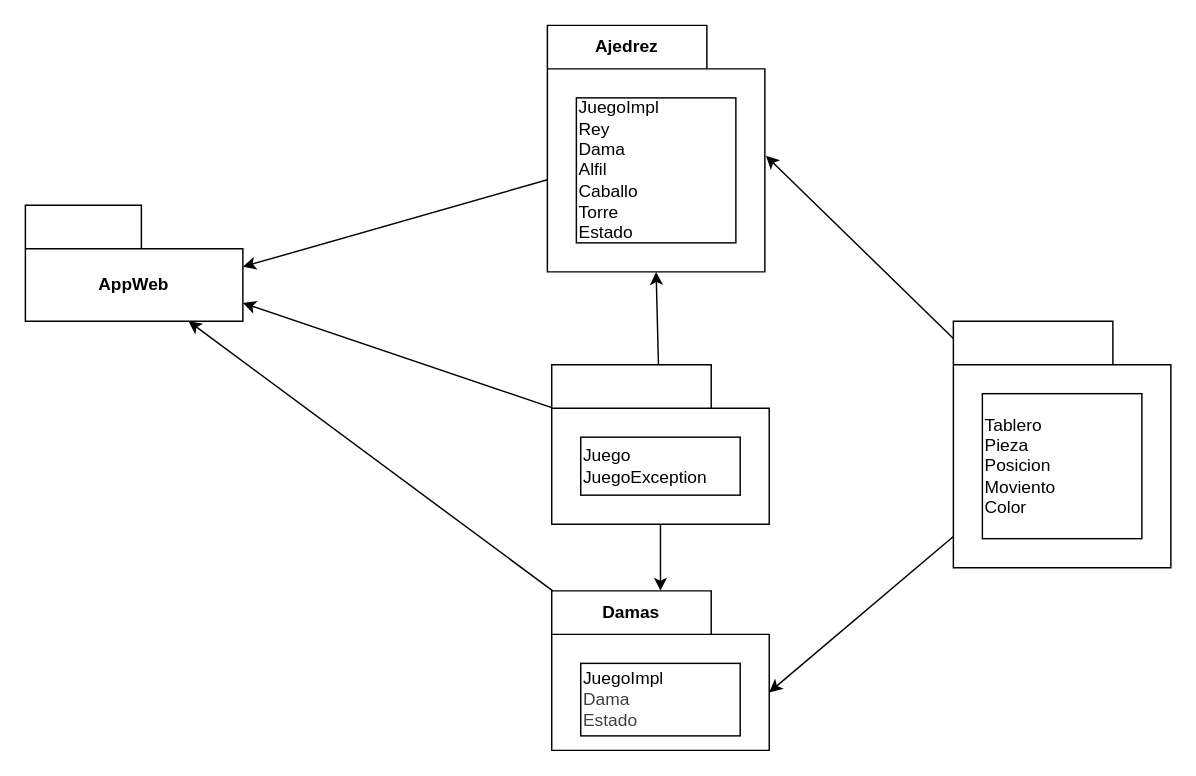
Image size: 1196x776. Some labels were removed from this diagram. The centre of each missing label's shape, as x and y in pixels:
Contratos: [659,443]
Core: [1061,444]
